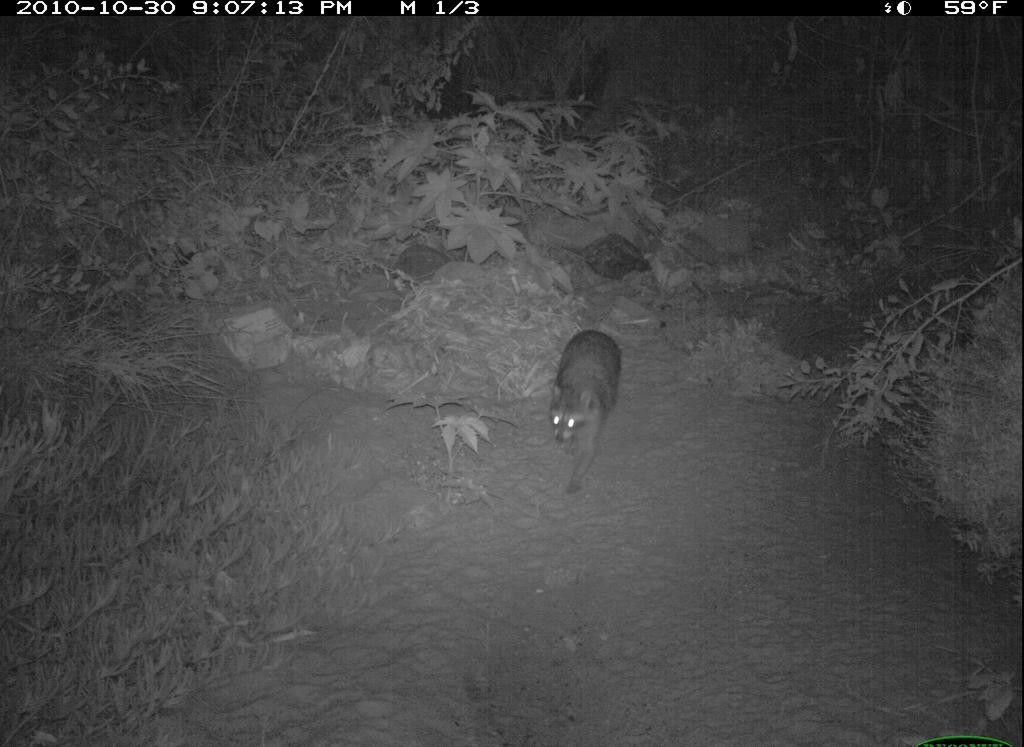raccoon: (542, 318, 634, 497)
